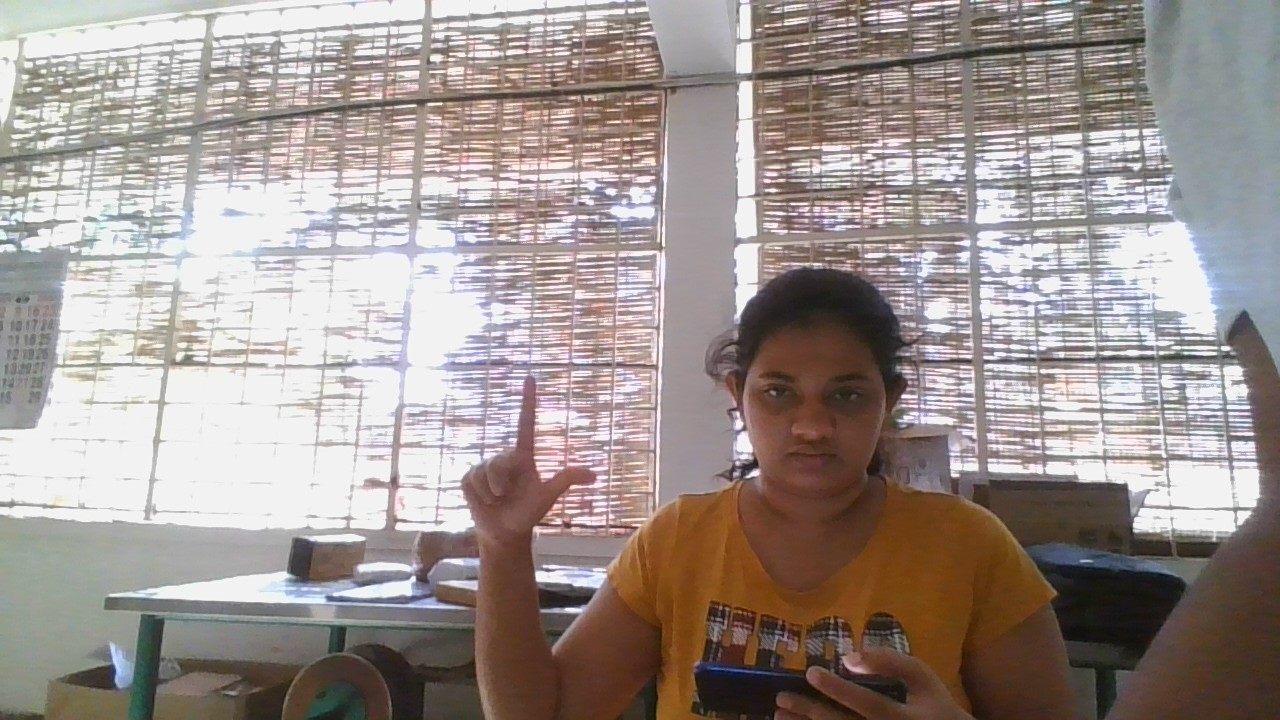l: (454, 368, 610, 555)
